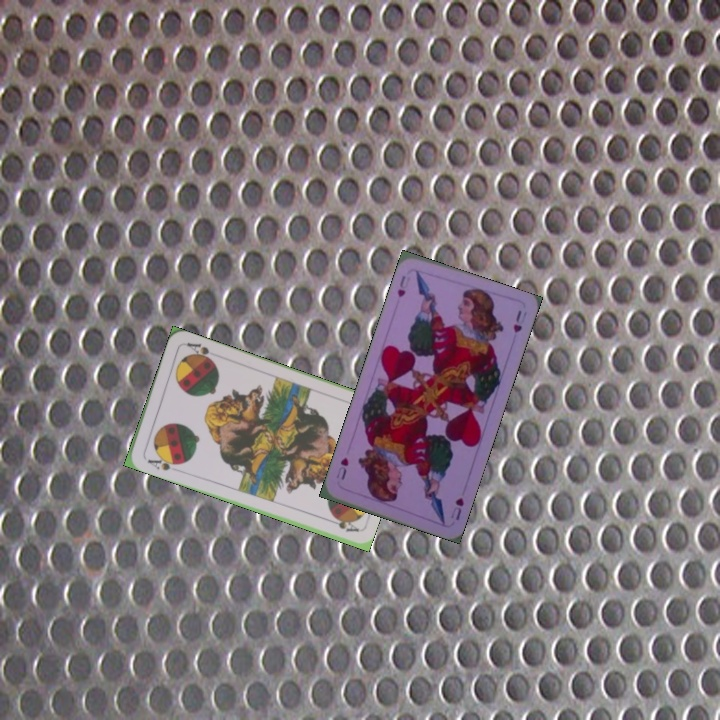HU: (446, 493, 466, 523), (393, 271, 413, 300)
SA: (143, 452, 183, 473)
